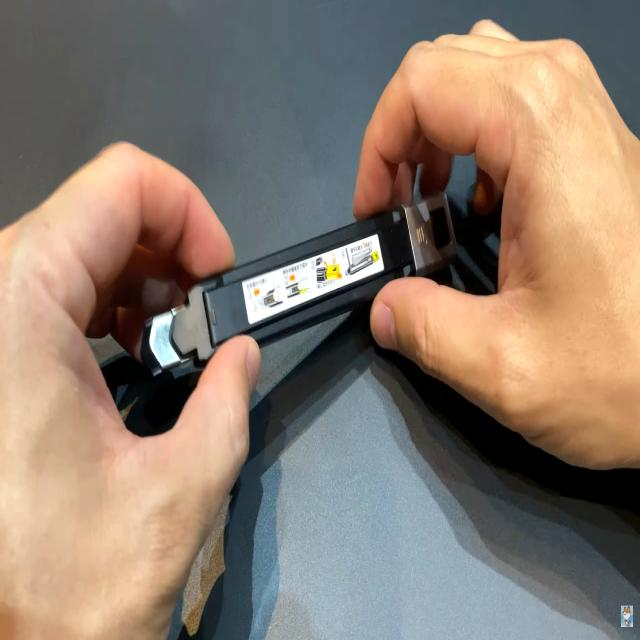cutter: (31, 100, 640, 496)
